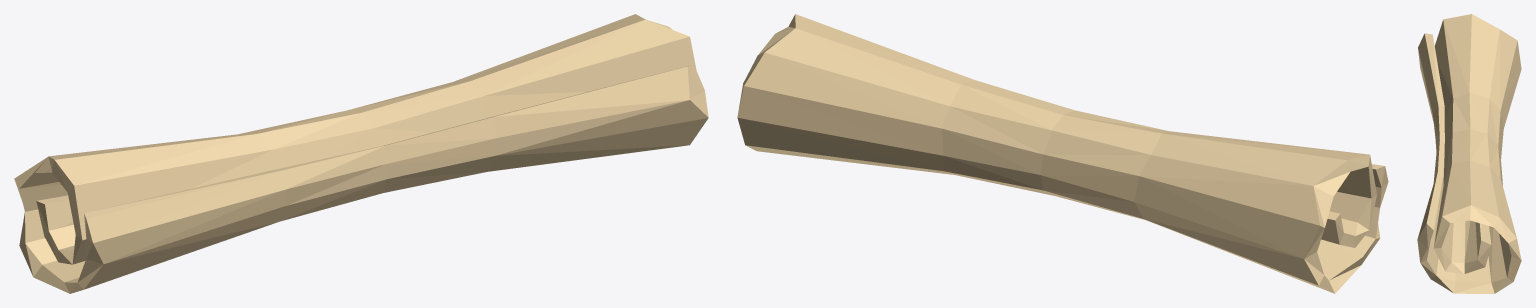
Rendered from SFHW_Scroll_001.fbx.
3 renders of one model, left to right at view 1: azimuth 30°, elevation 25°; view 2: azimuth 150°, elevation 25°; view 3: azimuth 270°, elevation 25°, orthographic. The views are drawn at different scales.
Parts seen in each view (by area): view 1: SFHW_Scroll_001; view 2: SFHW_Scroll_001; view 3: SFHW_Scroll_001.
Part boxes in pixels (left/top/right/bottom): SFHW_Scroll_001: left=14, top=14, right=708, bottom=293; SFHW_Scroll_001: left=737, top=14, right=1388, bottom=293; SFHW_Scroll_001: left=1417, top=14, right=1521, bottom=293.
Size of the model in its own units: 73.18 by 14.49 by 16.16.
